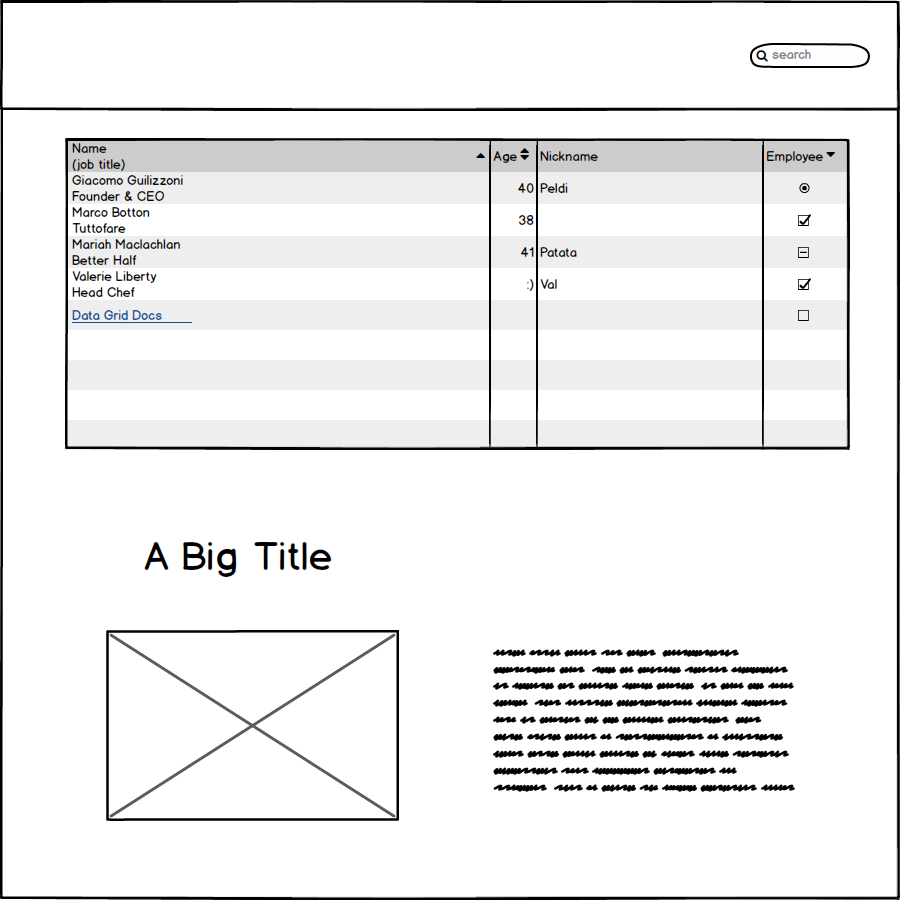h1: (138, 536, 337, 582)
image: (97, 623, 407, 826)
p: (487, 640, 805, 803)
search: (748, 37, 872, 70)
table: (55, 130, 861, 458)
